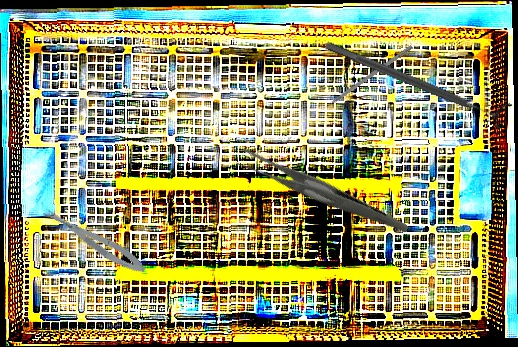Dressing Forceps: (232, 109, 410, 279)
Fixation Ring: (320, 30, 513, 132)
Hook Surgical: (317, 44, 414, 113)
Micro Scissor: (40, 200, 150, 280)
